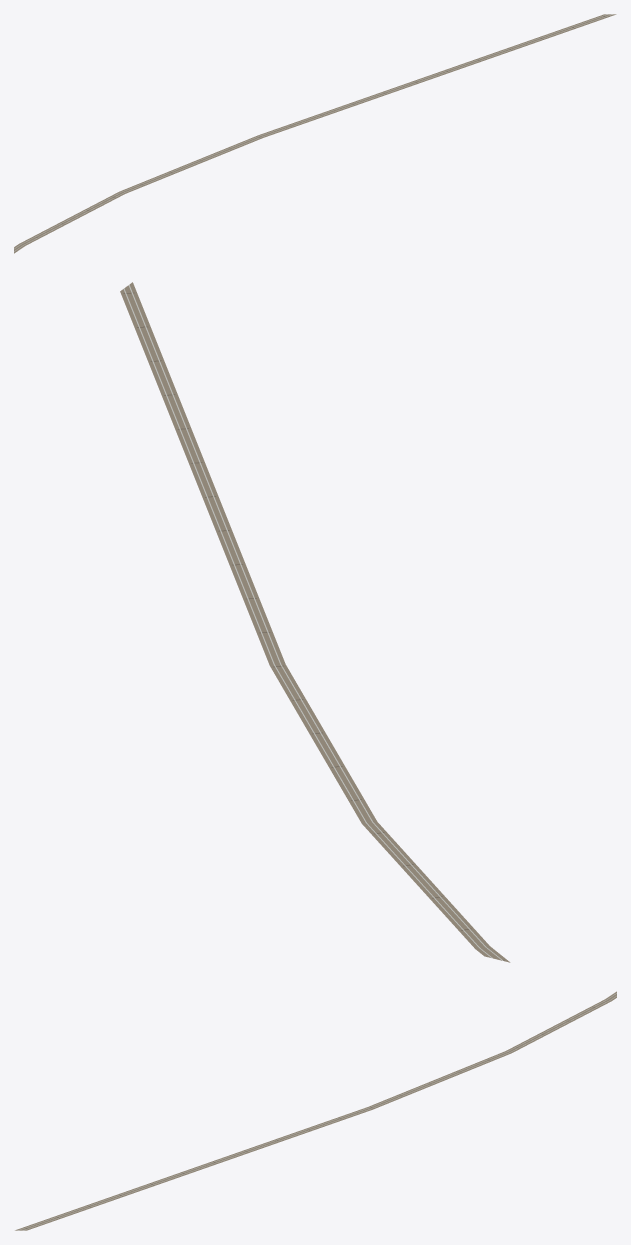
The picture shows the model from 3 angles, top to bottom: view 1: azimuth 90°, elevation 25°; view 2: azimuth 150°, elevation 25°; view 3: azimuth 270°, elevation 25°; orthographic projection. The views are drawn at different scales.
Parts seen in each view (by area): view 1: rail; view 2: rail; view 3: rail.
Part boxes in pixels (box(x1,y1,x2,y2)): rail: box(14, 14, 616, 253); rail: box(120, 282, 510, 962); rail: box(15, 991, 616, 1230).
Bounding box in the file's own units: 250 × 0.04 × 267.
